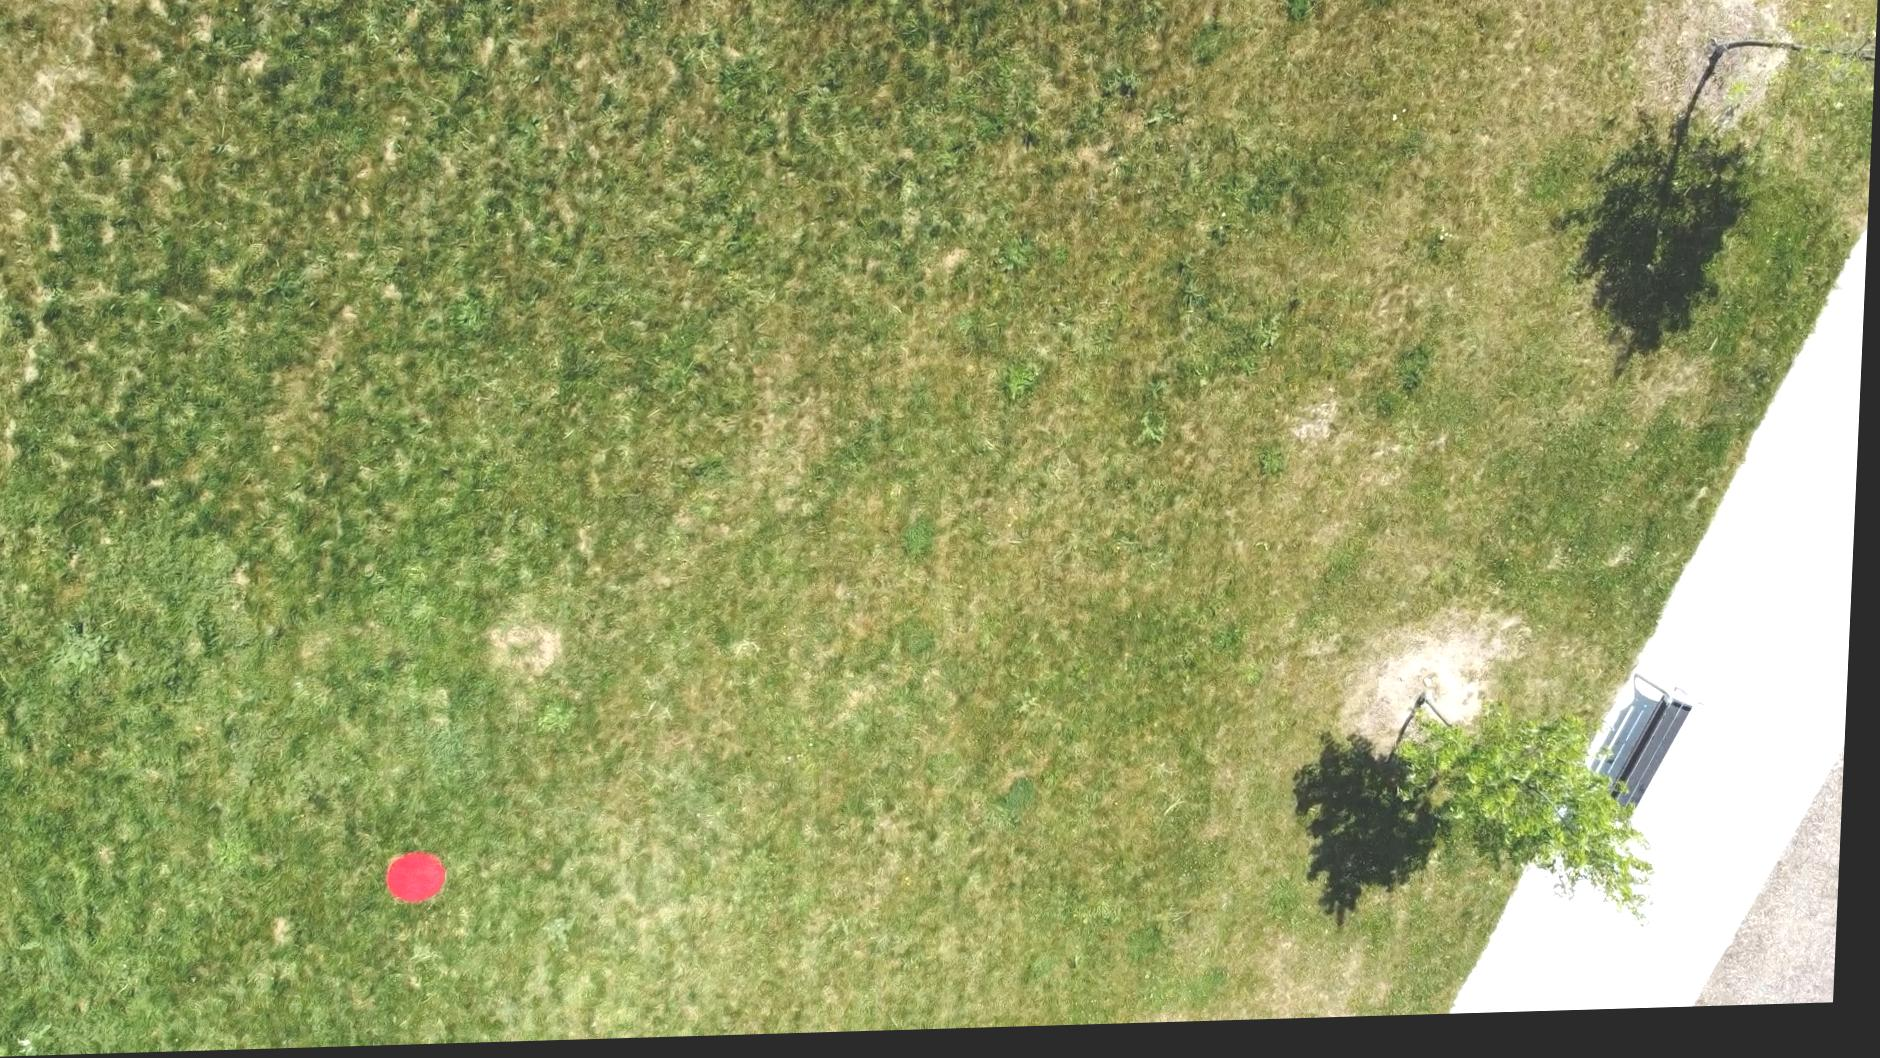Red: (390, 850, 458, 908)
